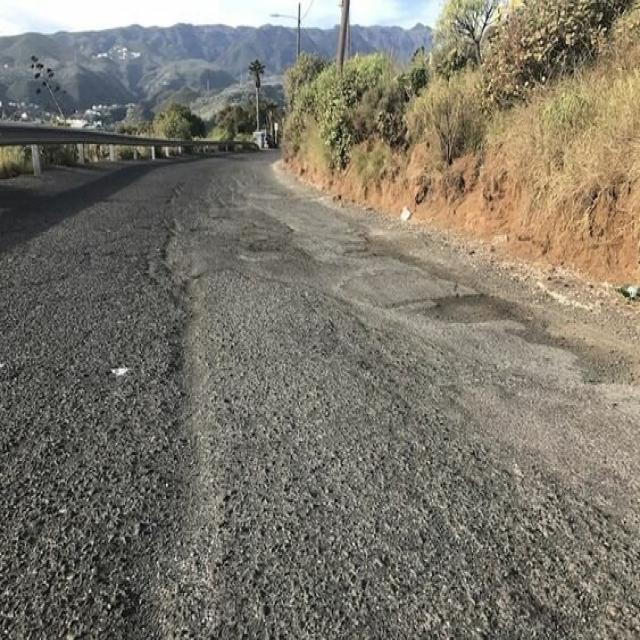Pothole: (138, 176, 243, 608)
